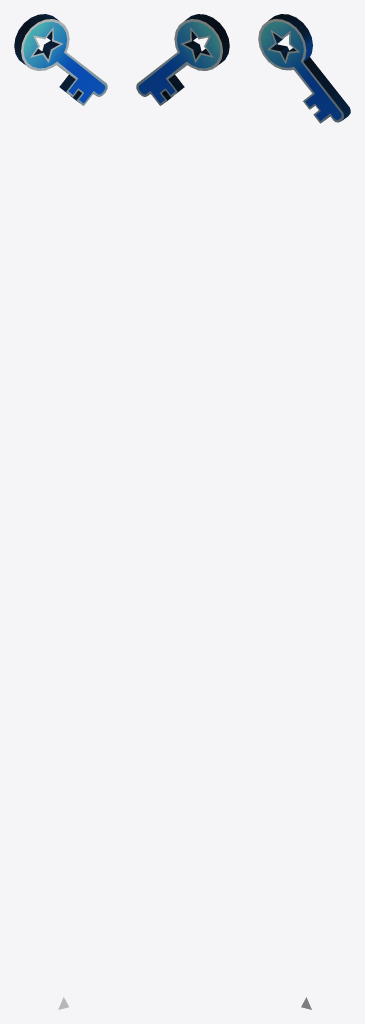
File: KeyIcon.glb
The picture shows the model from 3 angles, left to right: view 1: azimuth 30°, elevation 25°; view 2: azimuth 150°, elevation 25°; view 3: azimuth 330°, elevation 25°; orthographic projection.
Visible parts, largest first — view 1: saveMeToken; view 2: saveMeToken; view 3: saveMeToken.
Part boxes in pixels (x1,y1,x2,y2): saveMeToken: [14, 14, 107, 1009]; saveMeToken: [136, 14, 229, 105]; saveMeToken: [258, 14, 350, 1009].
Size of what is drawn, in the model's own units: 11.57 by 127 by 1.56.
2 materials, 1 textured.
